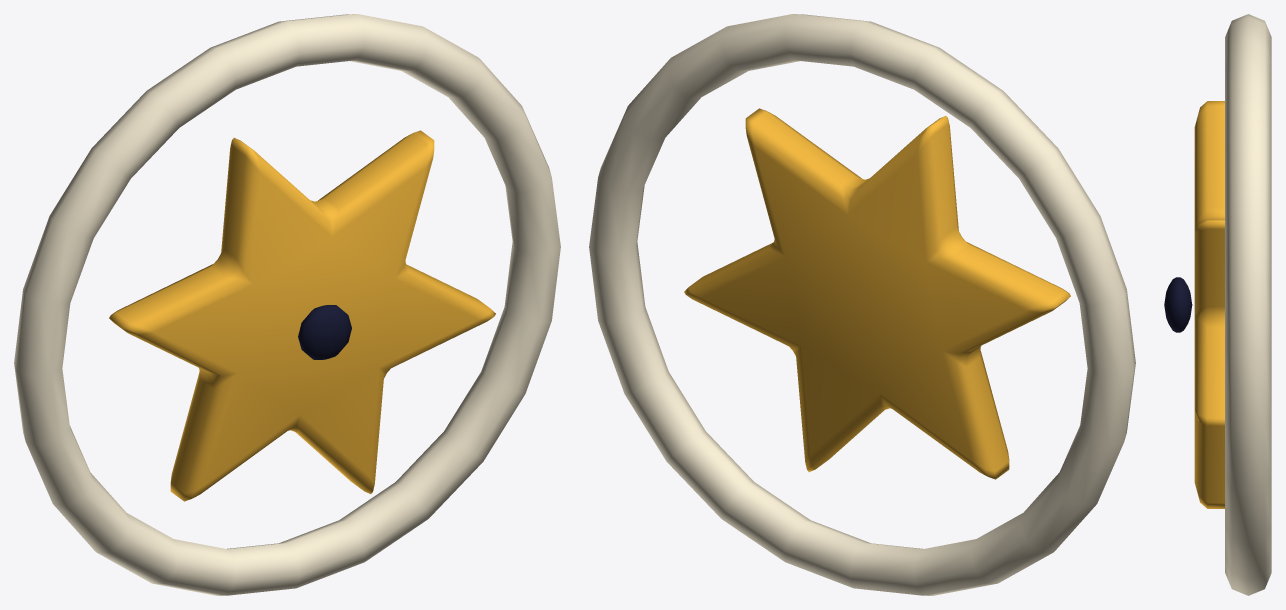
Rendered from r062_dungeon_puzzle_symbols_symbol_04.glb.
3 views of the same model, side by side, from view 1: azimuth 30°, elevation 25°; view 2: azimuth 150°, elevation 25°; view 3: azimuth 270°, elevation 25° (orthographic). The views are drawn at different scales.
Visible parts, largest first — view 1: r062_dungeon_puzzle_symbols_symbol_04.001; view 2: r062_dungeon_puzzle_symbols_symbol_04.001; view 3: r062_dungeon_puzzle_symbols_symbol_04.001.
Part boxes in pixels (<box>): r062_dungeon_puzzle_symbols_symbol_04.001: <box>14,14,560,595</box>; r062_dungeon_puzzle_symbols_symbol_04.001: <box>589,14,1135,595</box>; r062_dungeon_puzzle_symbols_symbol_04.001: <box>1164,14,1271,595</box>.
Size of the model in its own units: 2.5 by 2.5 by 0.46.
